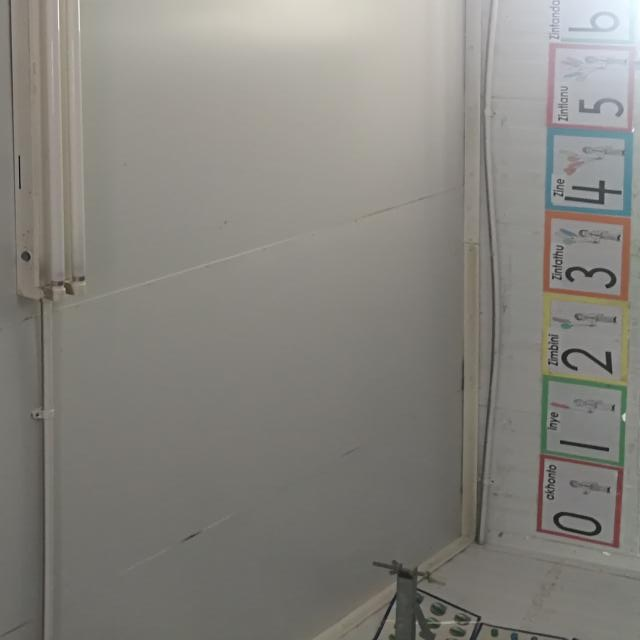fluorescent tube: (0, 0, 106, 295)
